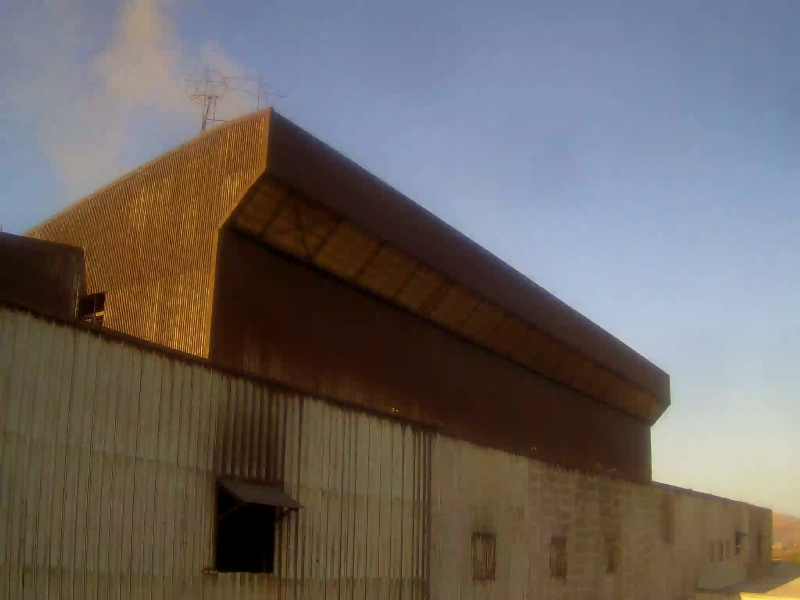bom: (292, 51, 768, 445)
ruim: (1, 2, 281, 179)
